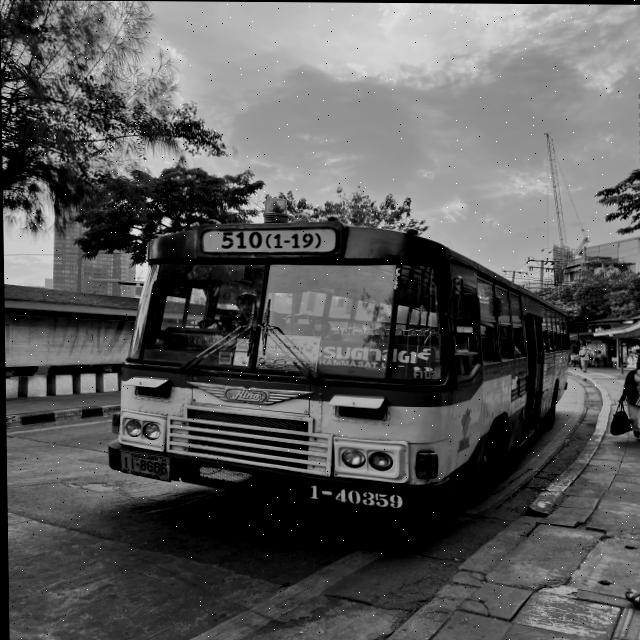BMTA-bus: (102, 219, 572, 519)
Bus-Line-Number: (199, 227, 335, 257)
Destination-Sign-Normal: (299, 337, 439, 382)
